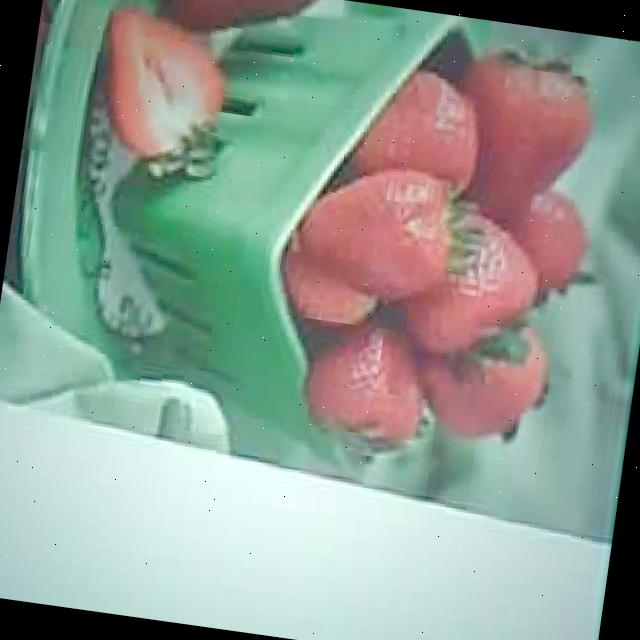strawberry: (296, 157, 458, 302)
